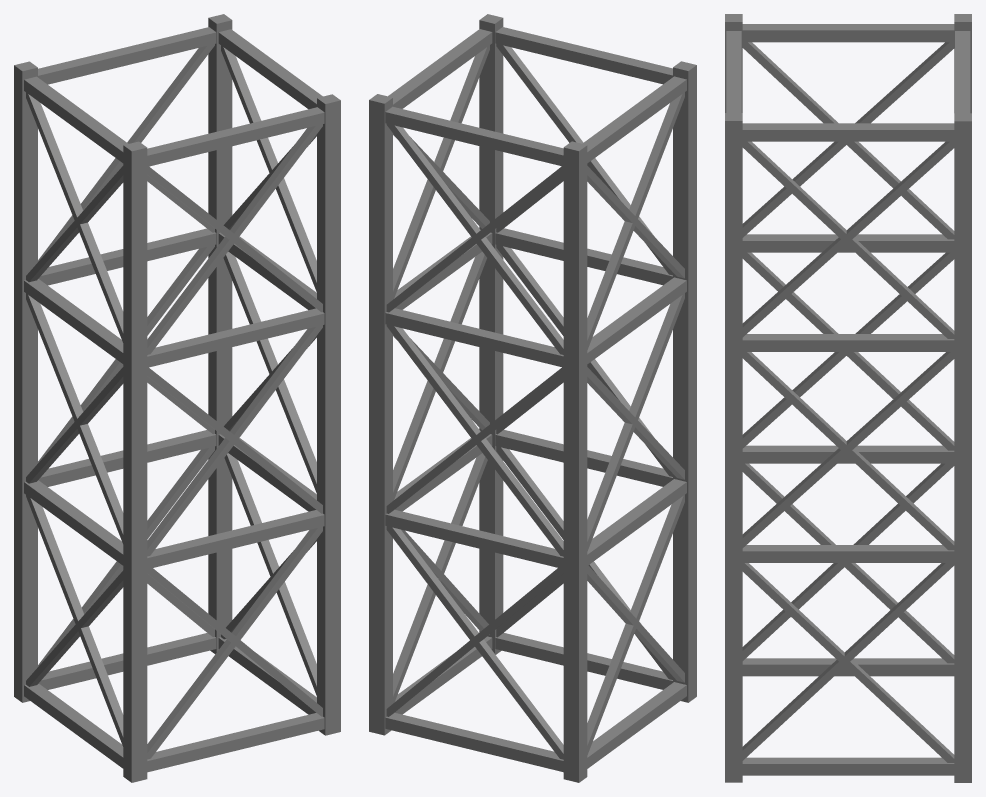
Rendered from Scaffolding.dae.
3 renders of one model, left to right at view 1: azimuth 30°, elevation 25°; view 2: azimuth 150°, elevation 25°; view 3: azimuth 270°, elevation 25°, orthographic. The views are drawn at different scales.
Parts seen in each view (by area): view 1: Cube.018; view 2: Cube.018; view 3: Cube.018.
Boxes of the visible parts, box(x1,y1,x2,y2) form: Cube.018: box(14, 14, 340, 782); Cube.018: box(369, 14, 696, 782); Cube.018: box(725, 14, 971, 782).
Size of the model in its own units: 2.18 by 2.11 by 6.25.
1 material, 1 textured.
